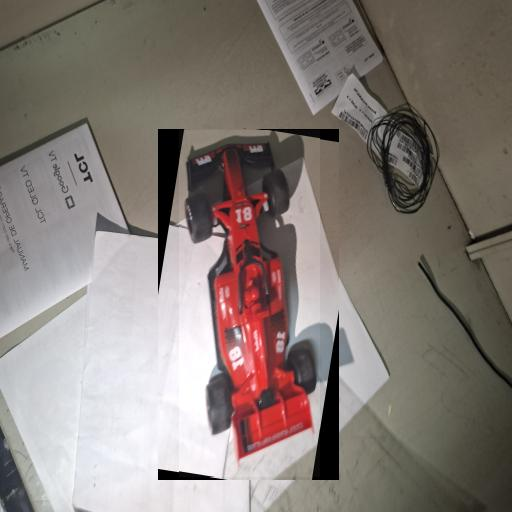carro: (179, 131, 320, 477)
